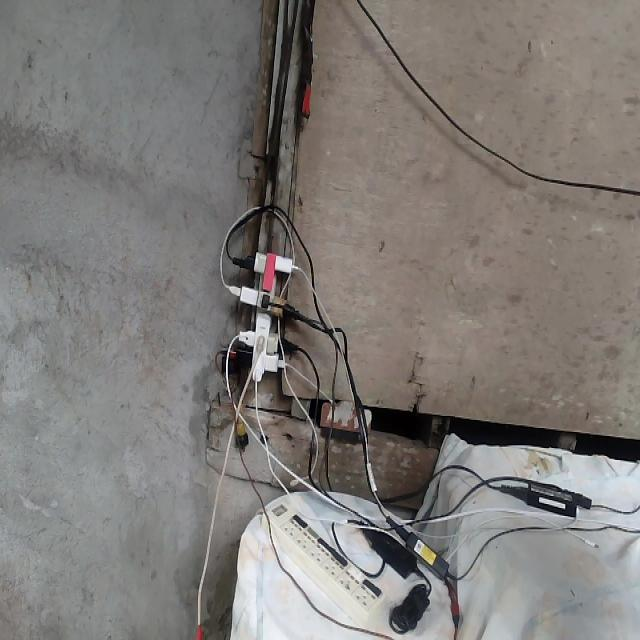-: (221, 250, 301, 382)
